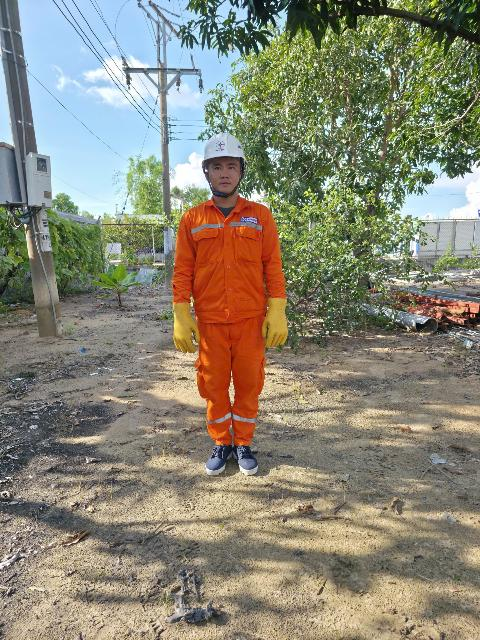gloves: (165, 290, 217, 361), (255, 288, 306, 351)
helmet: (194, 124, 269, 171)
shoes: (207, 432, 235, 476), (234, 439, 261, 479)
